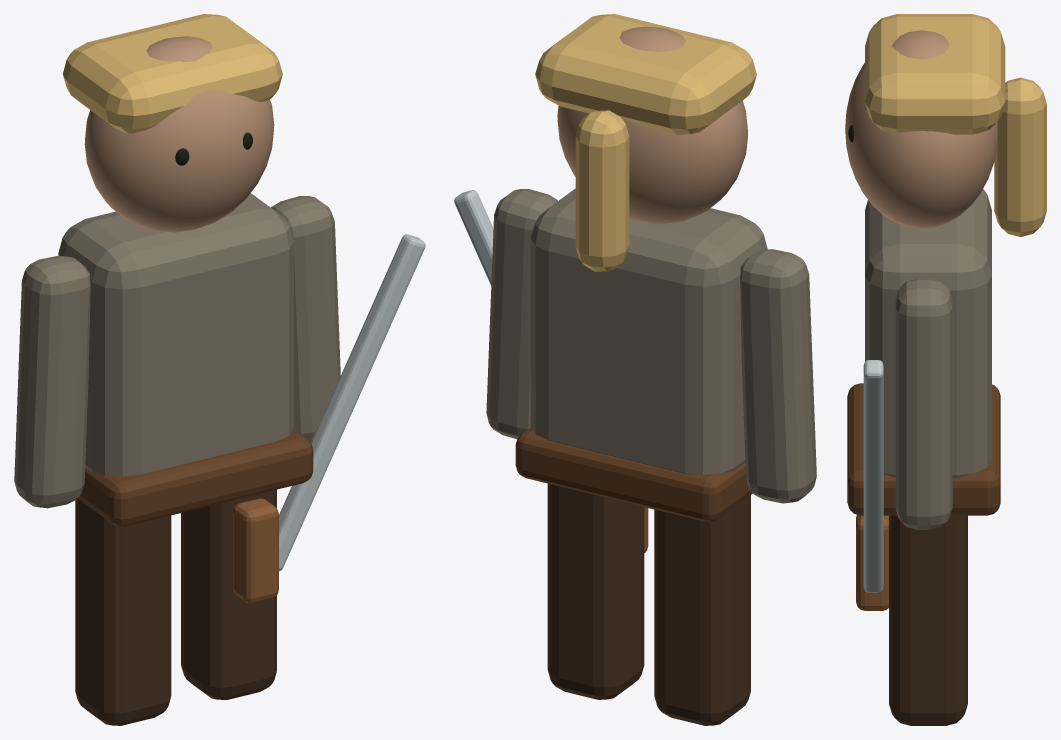
Rendered from davis_4180.glb.
The picture shows the model from 3 angles, left to right: view 1: azimuth 30°, elevation 25°; view 2: azimuth 150°, elevation 25°; view 3: azimuth 270°, elevation 25°; orthographic projection. The views are drawn at different scales.
Parts seen in each view (by area): view 1: Fitted torso, Head, Booted leg, Detailed arm, Hair, Booted leg.001, Broad weapon belt, Detailed arm.001, Demonstration sword, Sword grip; view 2: Fitted torso, Booted leg, Booted leg.001, Hair, Detailed arm, Head, Detailed arm.001, Broad weapon belt, Tied blonde ponytail, Demonstration sword; view 3: Fitted torso, Booted leg.001, Hair, Detailed arm.001, Head, Tied blonde ponytail, Broad weapon belt, Demonstration sword, Sword grip.
Part boxes in pixels (x1,y1,x2,y2): Fitted torso: (58, 193, 293, 476); Head: (84, 36, 274, 232); Booted leg: (75, 498, 171, 725); Detailed arm: (14, 255, 90, 508); Hair: (62, 14, 282, 133); Booted leg.001: (181, 489, 276, 699); Broad weapon belt: (78, 430, 313, 526); Detailed arm.001: (271, 196, 340, 442); Demonstration sword: (279, 234, 425, 571); Sword grip: (233, 498, 278, 603); Fitted torso: (530, 188, 767, 474); Booted leg: (654, 495, 750, 725); Booted leg.001: (547, 483, 644, 699); Hair: (535, 14, 756, 134); Detailed arm: (740, 249, 816, 503); Head: (557, 26, 747, 223); Detailed arm.001: (486, 189, 557, 438); Broad weapon belt: (515, 427, 752, 521); Tied blonde ponytail: (575, 110, 629, 271); Demonstration sword: (454, 190, 493, 285); Fitted torso: (865, 189, 991, 478); Booted leg.001: (889, 515, 967, 725); Hair: (865, 14, 1005, 134); Detailed arm.001: (895, 278, 952, 529); Head: (845, 30, 997, 228); Tied blonde ponytail: (994, 77, 1046, 236); Broad weapon belt: (847, 383, 1000, 515); Demonstration sword: (863, 360, 883, 592); Sword grip: (856, 514, 888, 610).
Bounding box in the file's own units: 1.96 × 3.28 × 0.92.
